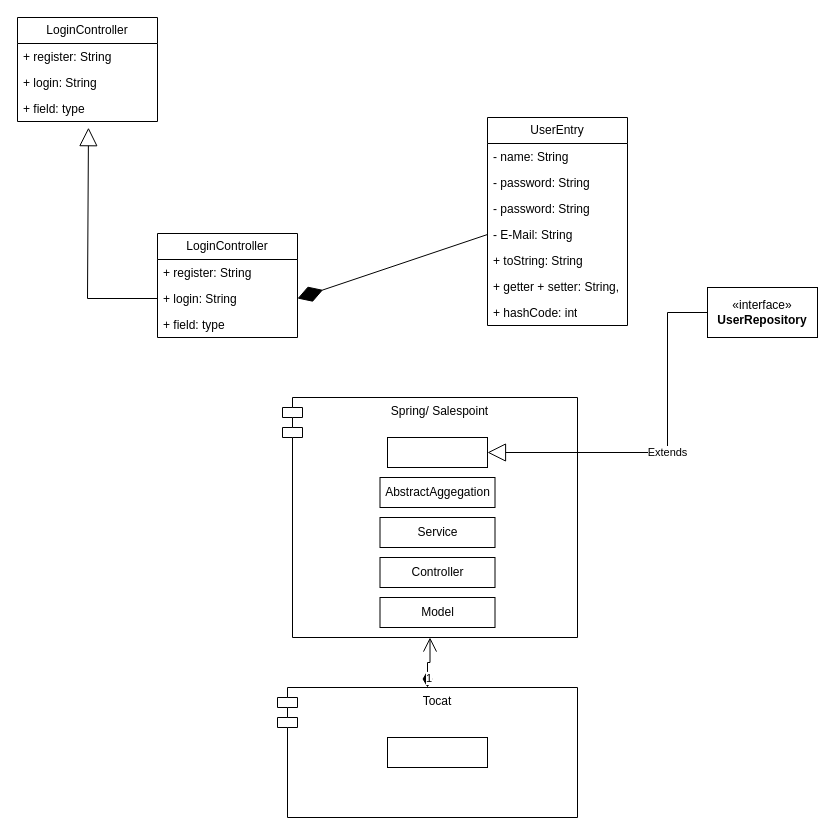
This 835x835 diagram has some shape labels left out. Here are the shapes that lost their labels. From the top down, the centre of each, then its label:
At (437,452): "Crud-Repository".
At (437,752): "HTTP-Session".
